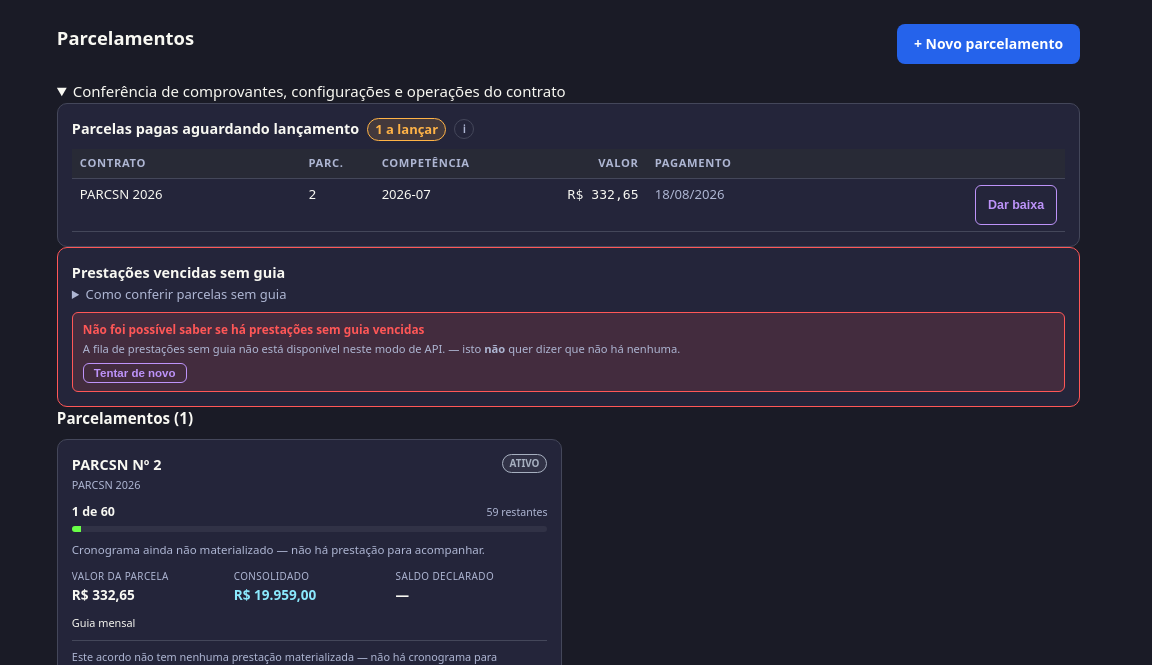
a recusa deixou de ser um beco › o motivo agora aponta a SAÍDA, em vez de só descrever o impedimento
Click the button titled "Grava os lançamentos de baixa desta parcela (pede confirmação)." in the row of "2026-07" at (1016, 205), box top-left (975, 185), bottom-right (1057, 225)
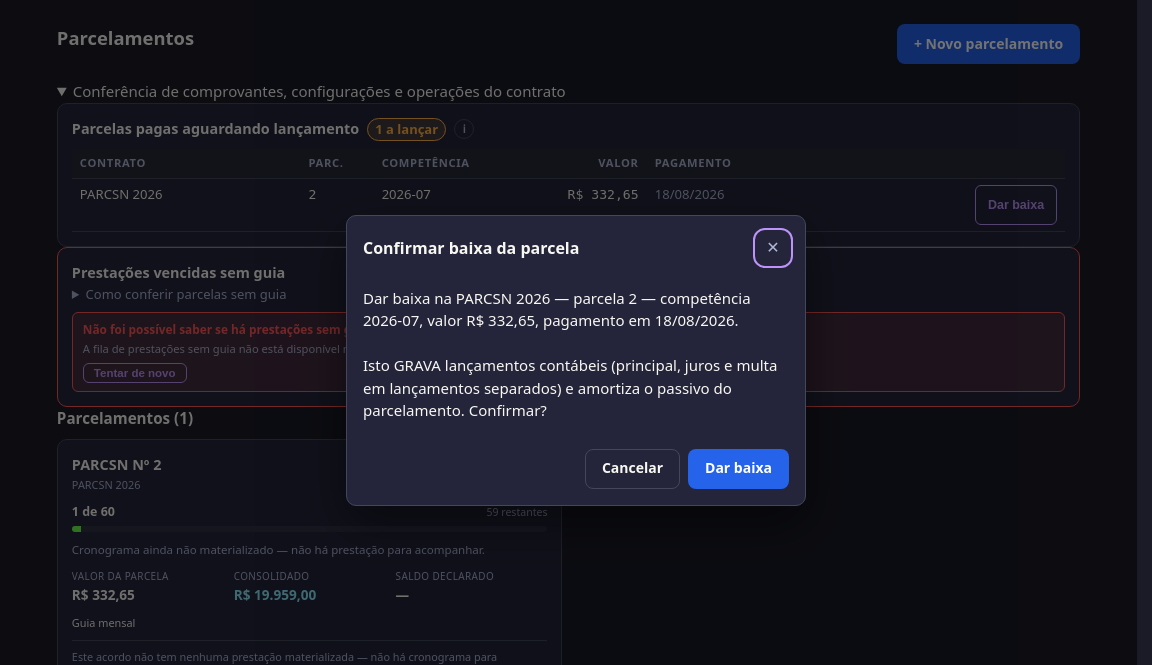
Click the button "Dar baixa" at (738, 468), box top-left (688, 448), bottom-right (789, 488)
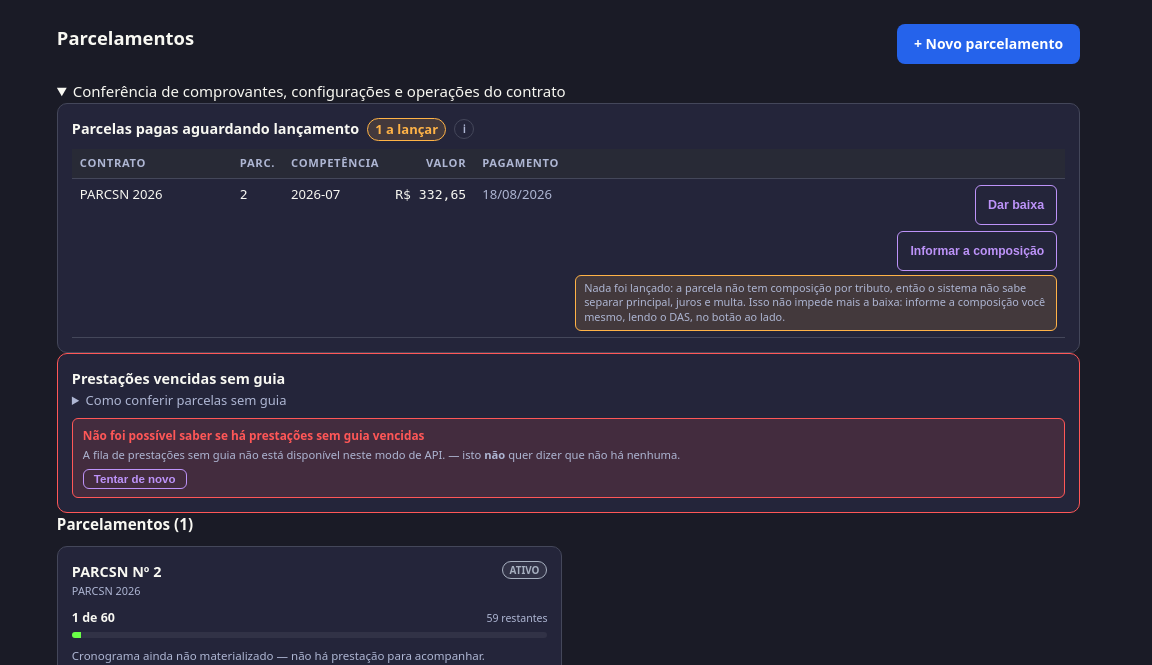
Expected: the text "informe a composição você mesmo" is shown, top-left (584, 280), bottom-right (1045, 324)
